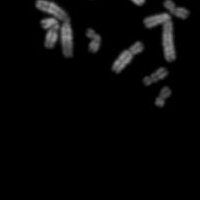chromosome: (34, 0, 73, 58), (144, 14, 176, 62), (112, 41, 144, 73), (40, 17, 60, 49), (164, 0, 190, 19), (142, 66, 167, 85), (85, 27, 100, 52), (154, 86, 171, 107), (108, 0, 146, 5)
